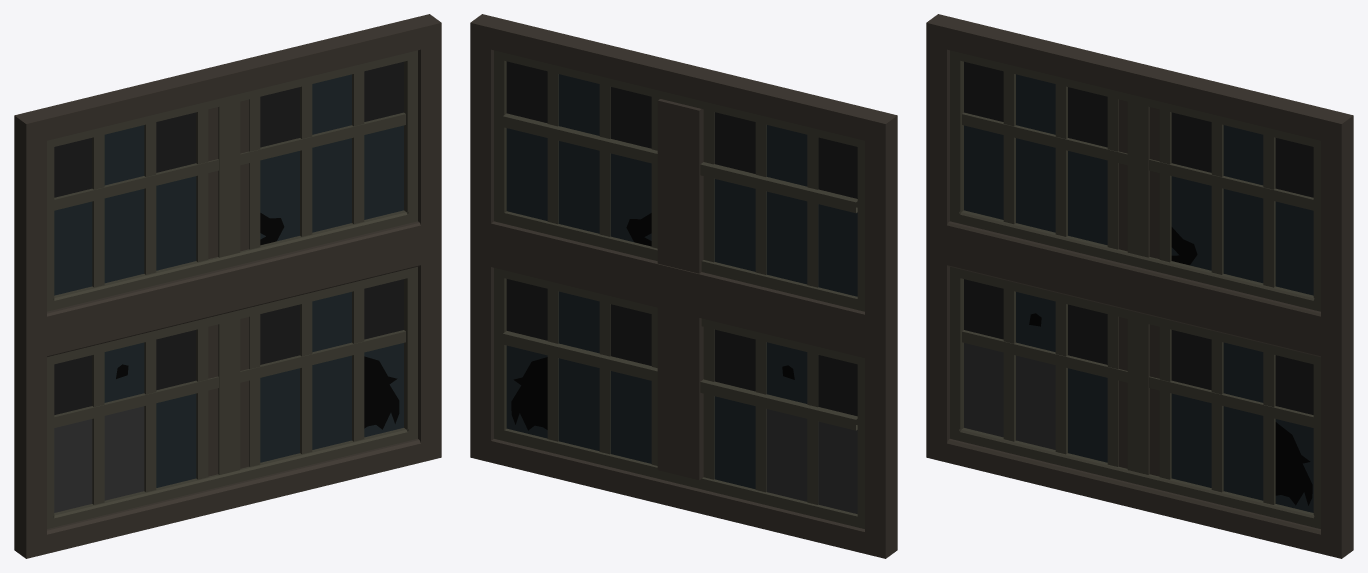
File: front5.fbx
The picture shows the model from 3 angles, left to right: view 1: azimuth 30°, elevation 25°; view 2: azimuth 150°, elevation 25°; view 3: azimuth 330°, elevation 25°; orthographic projection.
Parts seen in each view (by area): view 1: Cube.006; view 2: Cube.006; view 3: Cube.006.
Boxes of the visible parts, x1,y1,x2,y2 form: Cube.006: (14, 14, 441, 558); Cube.006: (470, 14, 897, 558); Cube.006: (926, 14, 1353, 558).
Bounding box in the file's own units: 400 × 400 × 20.
